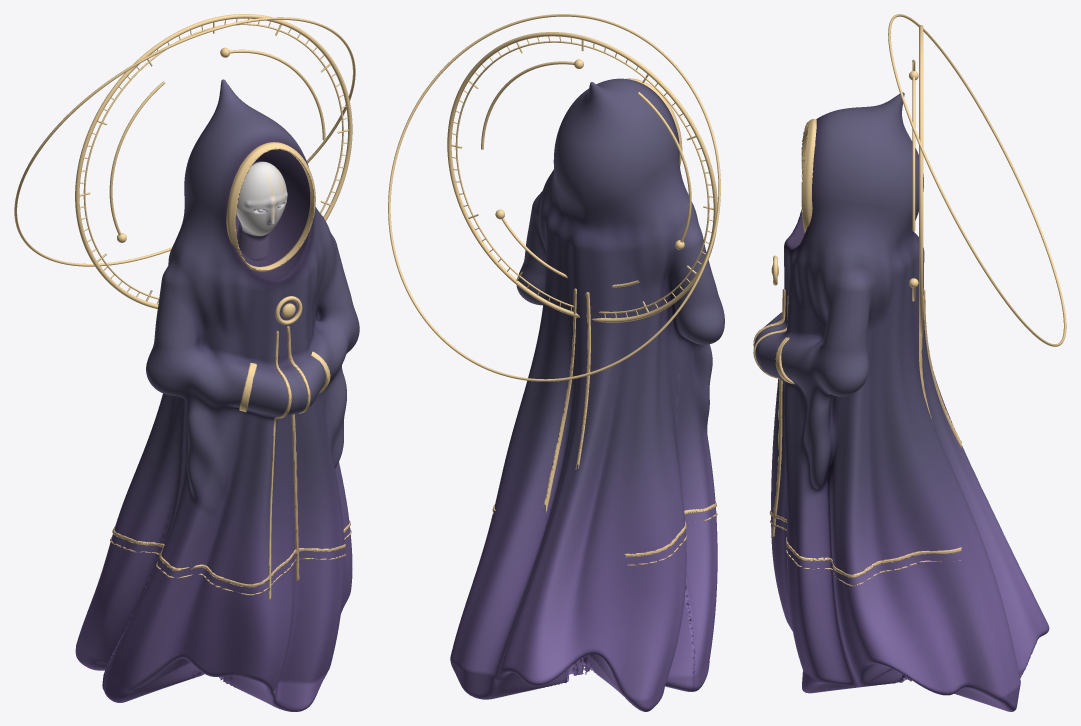
Rendered from watcher.glb.
3 views of the same model, side by side, from view 1: azimuth 30°, elevation 25°; view 2: azimuth 150°, elevation 25°; view 3: azimuth 270°, elevation 25° (orthographic). The views are drawn at different scales.
Parts seen in each view (by area): view 1: Robe, Trim, Halo_A, Mask, Halo_C, Halo_B; view 2: Robe, Halo_A, Halo_C, Trim, Halo_B; view 3: Robe, Trim, Halo_C, Halo_A, Halo_B.
Part boxes in pixels (<box>): Robe: <box>75,79,359,711</box>; Trim: <box>110,142,351,599</box>; Halo_A: <box>75,14,352,308</box>; Mask: <box>236,161,287,260</box>; Halo_C: <box>14,17,355,266</box>; Halo_B: <box>109,47,325,242</box>; Robe: <box>450,78,724,711</box>; Halo_A: <box>447,32,717,322</box>; Halo_C: <box>388,14,720,381</box>; Trim: <box>490,78,717,565</box>; Halo_B: <box>481,59,691,287</box>; Robe: <box>754,92,1049,711</box>; Trim: <box>753,119,961,586</box>; Halo_C: <box>888,14,1066,346</box>; Halo_A: <box>919,25,923,335</box>; Halo_B: <box>909,59,918,301</box>.
Bounding box in the file's own units: 4.93 × 9.58 × 4.19.
